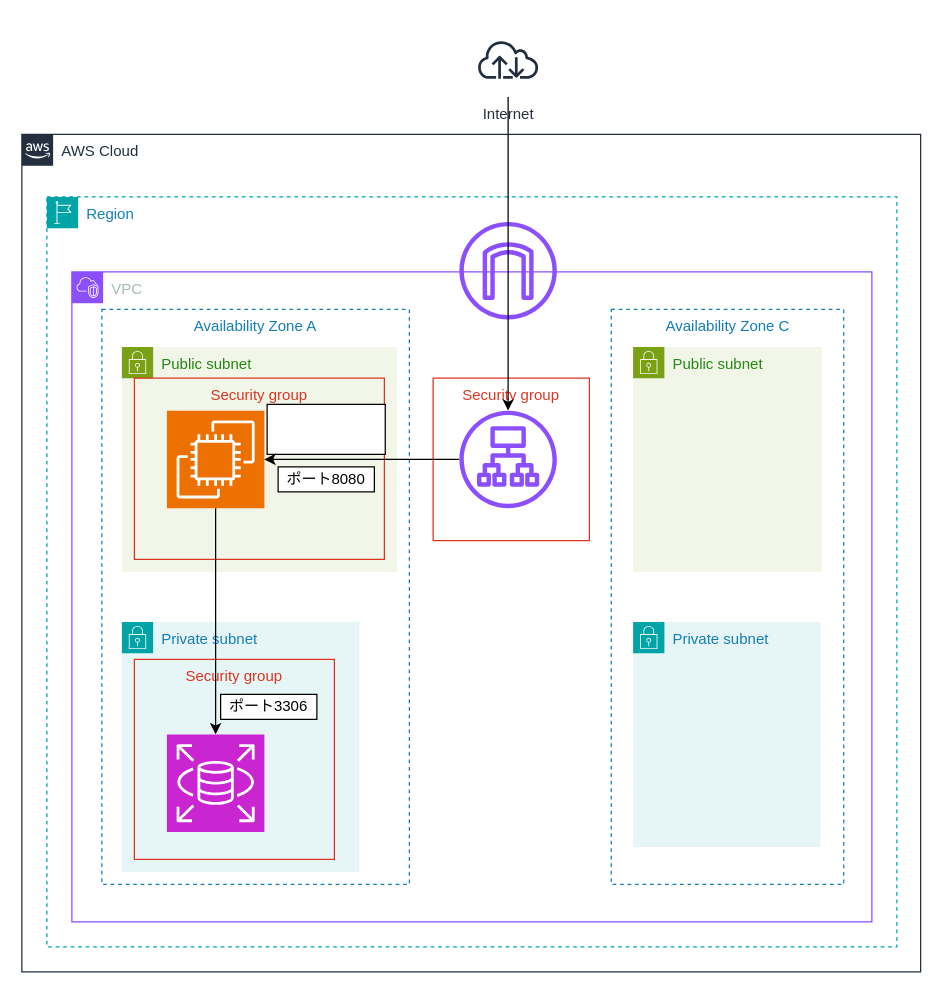
The diagram is 943 pixels wide and 994 high, and some of its shapes have lost their labels. The centre of each missing label's shape, as x and y in pixels:
"ALB" goes at pixel 507 459.
"EC２" goes at pixel 215 458.
"RDS" goes at pixel 215 782.
"sshの開放範囲 0.0.0.0/0" goes at pixel 325 428.
